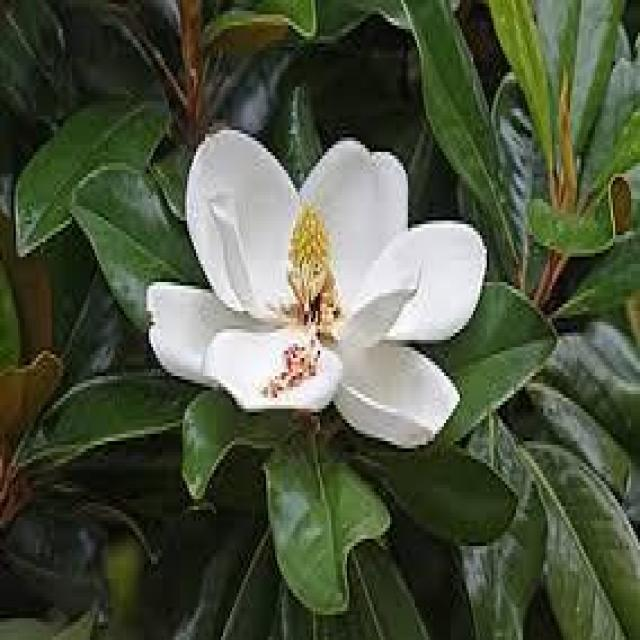organic waste: (148, 128, 490, 446)
